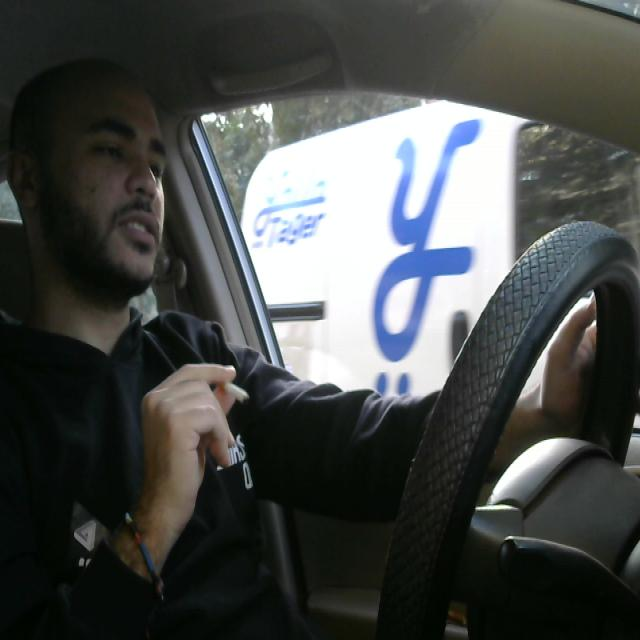smoking: (208, 364, 250, 419)
